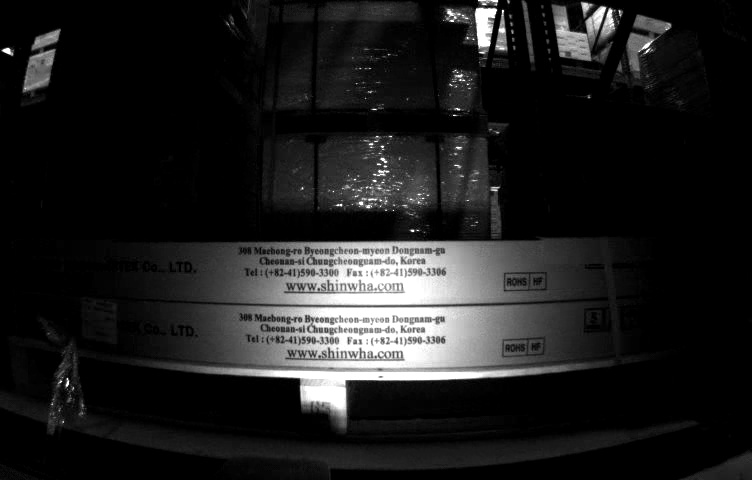True Barcode: (82, 294, 116, 344)
